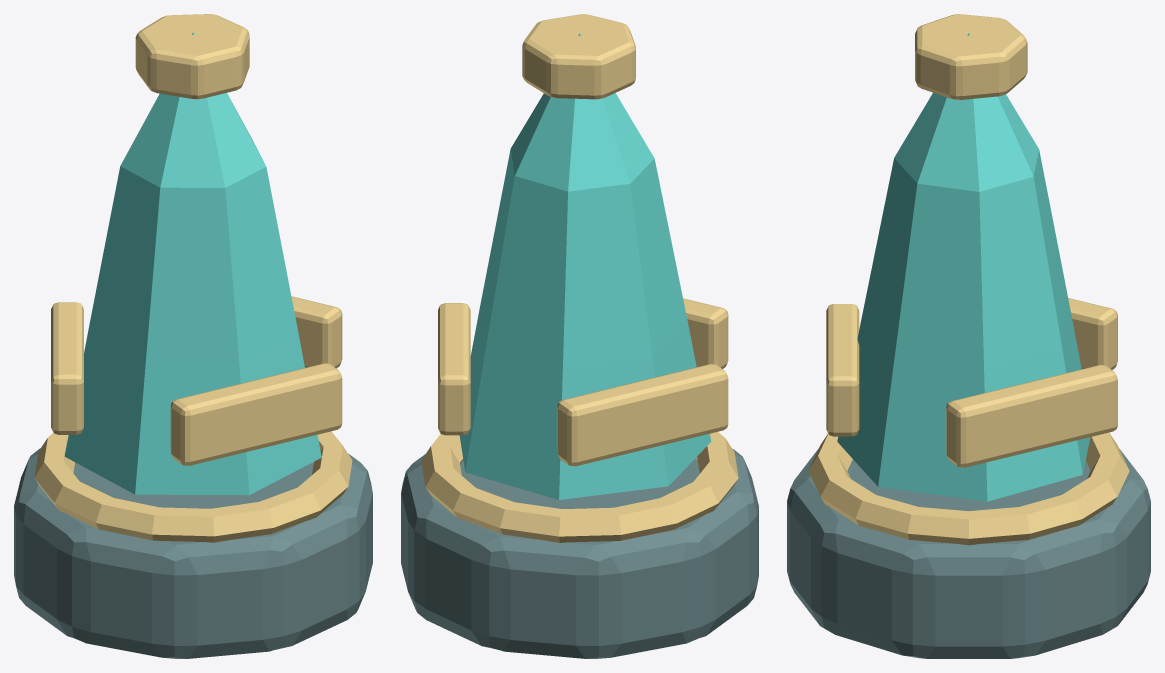
The model's file is SignalGardenReceiver.fbx.
3 views of the same model, side by side, from view 1: azimuth 30°, elevation 25°; view 2: azimuth 150°, elevation 25°; view 3: azimuth 270°, elevation 25° (orthographic).
Parts seen in each view (by area): view 1: SM_ReceiverShrine_Crystal, SM_ReceiverShrine_Base, SM_ReceiverShrine_Inlay, SM_ReceiverShrine_Fin_3, SM_ReceiverShrine_Crown, SM_ReceiverShrine_Fin_2, SM_ReceiverShrine_Fin_1; view 2: SM_ReceiverShrine_Crystal, SM_ReceiverShrine_Base, SM_ReceiverShrine_Inlay, SM_ReceiverShrine_Fin_2, SM_ReceiverShrine_Crown, SM_ReceiverShrine_Fin_1, SM_ReceiverShrine_Fin_3; view 3: SM_ReceiverShrine_Crystal, SM_ReceiverShrine_Base, SM_ReceiverShrine_Inlay, SM_ReceiverShrine_Fin_1, SM_ReceiverShrine_Crown, SM_ReceiverShrine_Fin_3, SM_ReceiverShrine_Fin_2.
Boxes of the visible parts, <box> form: SM_ReceiverShrine_Crystal: <box>64,32,321,495</box>; SM_ReceiverShrine_Base: <box>14,448,372,658</box>; SM_ReceiverShrine_Inlay: <box>34,431,352,542</box>; SM_ReceiverShrine_Fin_3: <box>170,363,342,465</box>; SM_ReceiverShrine_Crown: <box>135,14,249,99</box>; SM_ReceiverShrine_Fin_2: <box>51,302,83,434</box>; SM_ReceiverShrine_Fin_1: <box>291,296,342,368</box>; SM_ReceiverShrine_Crystal: <box>459,33,711,499</box>; SM_ReceiverShrine_Base: <box>401,448,758,658</box>; SM_ReceiverShrine_Inlay: <box>421,431,738,542</box>; SM_ReceiverShrine_Fin_2: <box>557,364,728,466</box>; SM_ReceiverShrine_Crown: <box>522,14,635,99</box>; SM_ReceiverShrine_Fin_1: <box>438,303,470,435</box>; SM_ReceiverShrine_Fin_3: <box>683,298,728,368</box>; SM_ReceiverShrine_Crystal: <box>837,33,1090,501</box>; SM_ReceiverShrine_Base: <box>787,448,1150,658</box>; SM_ReceiverShrine_Inlay: <box>808,432,1129,545</box>; SM_ReceiverShrine_Fin_1: <box>946,365,1117,467</box>; SM_ReceiverShrine_Crown: <box>915,14,1027,100</box>; SM_ReceiverShrine_Fin_3: <box>826,304,859,436</box>; SM_ReceiverShrine_Fin_2: <box>1068,298,1117,369</box>.
Size of the model in its own units: 1.18 by 2.06 by 1.21.
